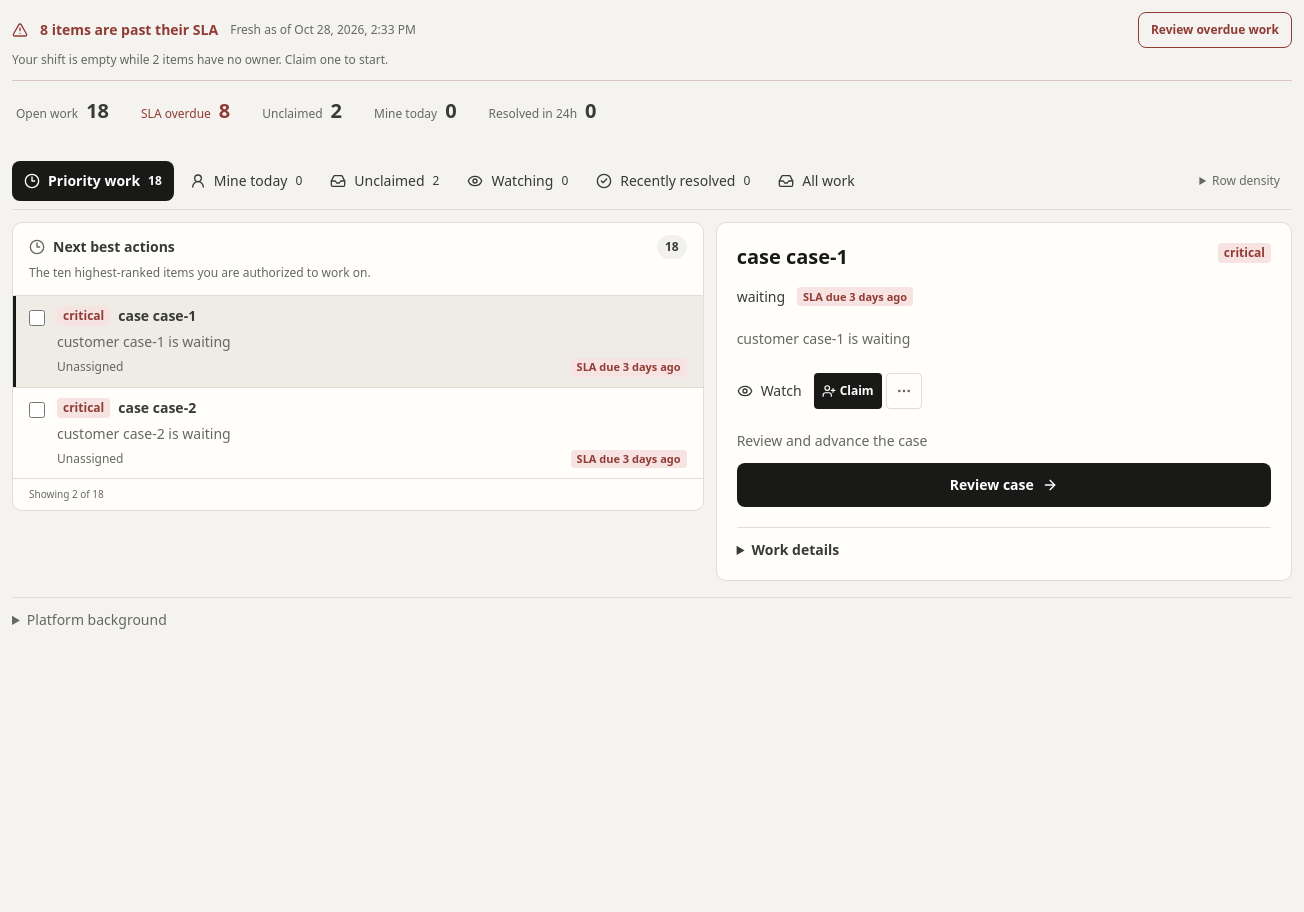
Today operator actions › selects one preview without claiming or duplicating queue items
Expected: the number of checkboxes is 2, [29, 310, 45, 326]; [29, 402, 45, 418]
Click the button with aria-label "Preview case case-2" at (84, 408), box [57, 398, 687, 468]
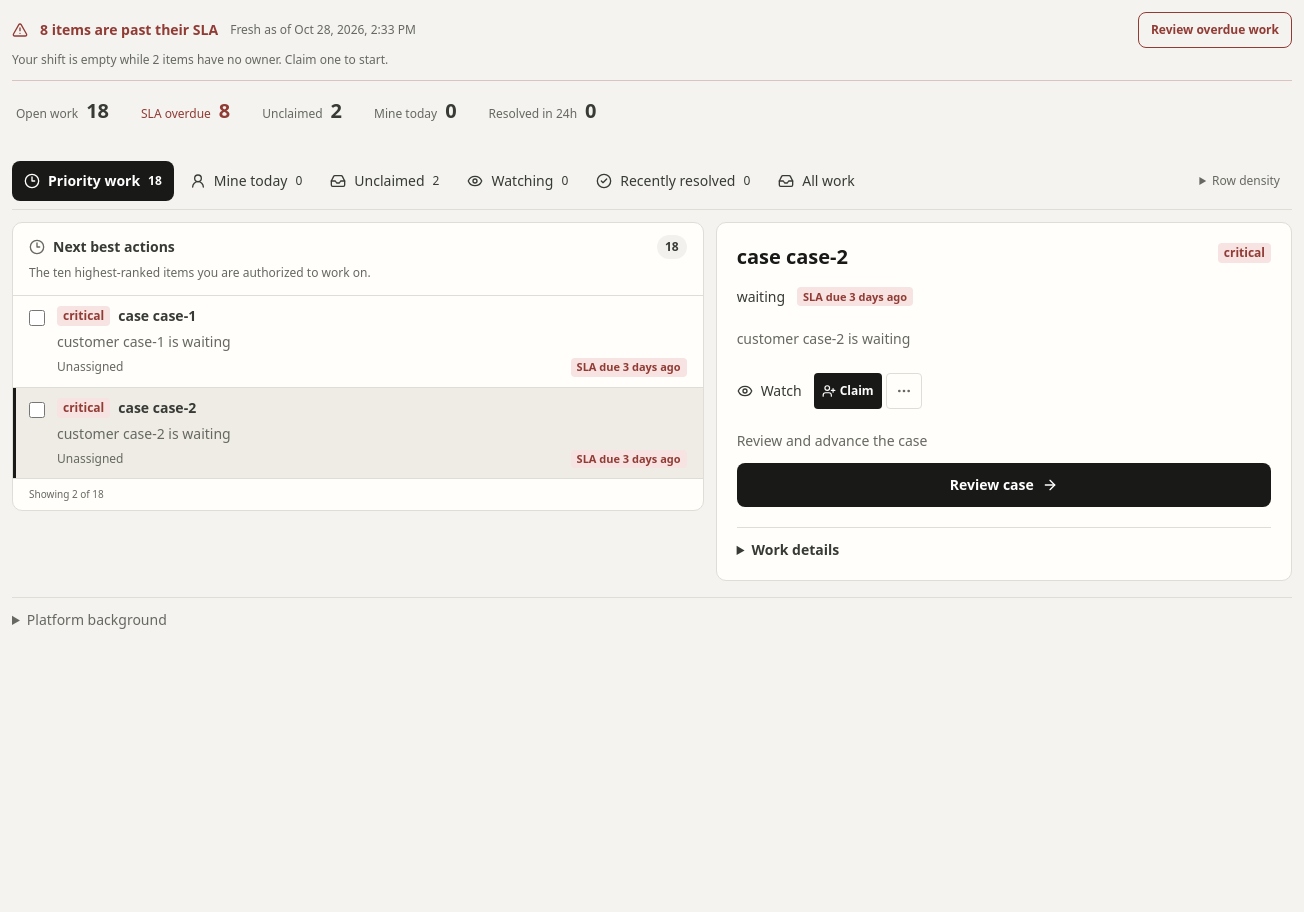
Expected: the link "Review case" is shown, [737, 462, 1271, 506]
Expected: the element with test id "today-preview" shows "customer case-2 is waiting", [737, 328, 910, 348]
